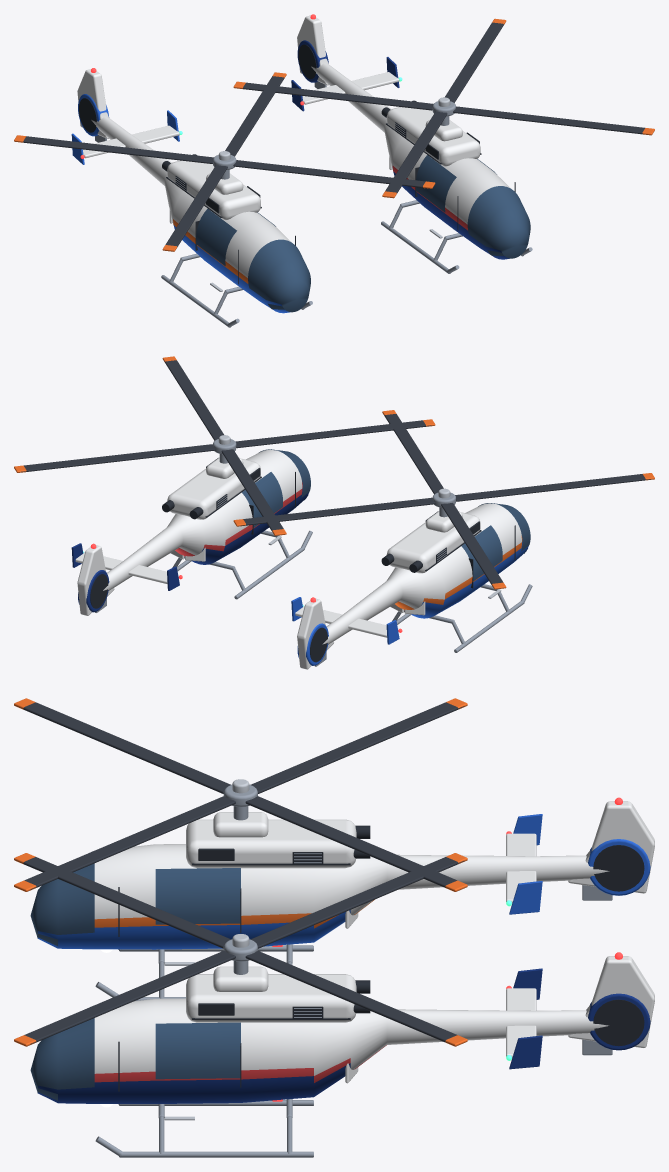
File: helicopter.glb
3 views of the same model, one above another, from view 1: azimuth 30°, elevation 25°; view 2: azimuth 150°, elevation 25°; view 3: azimuth 270°, elevation 25° (orthographic). The views are drawn at different scales.
Visible parts, largest first — view 1: heli_a_body, heli_b_body, heli_a_rotor_main, heli_b_rotor_main; view 2: heli_a_body, heli_b_body, heli_a_rotor_main, heli_b_rotor_main; view 3: heli_b_body, heli_a_body, heli_a_rotor_main, heli_b_rotor_main.
Boxes of the visible parts, x1,y1,x2,y2 form: heli_a_body: (71, 68, 312, 327); heli_b_body: (291, 14, 532, 273); heli_a_rotor_main: (14, 72, 435, 251); heli_b_rotor_main: (233, 18, 654, 198); heli_a_body: (291, 503, 532, 669); heli_b_body: (71, 449, 312, 615); heli_a_rotor_main: (233, 410, 654, 589); heli_b_rotor_main: (14, 356, 435, 535); heli_b_body: (30, 952, 654, 1157); heli_a_body: (30, 797, 654, 1001); heli_a_rotor_main: (14, 698, 467, 891); heli_b_rotor_main: (14, 853, 467, 1046).
Bounding box in the file's own units: 13.44 × 3.53 × 10.51.
